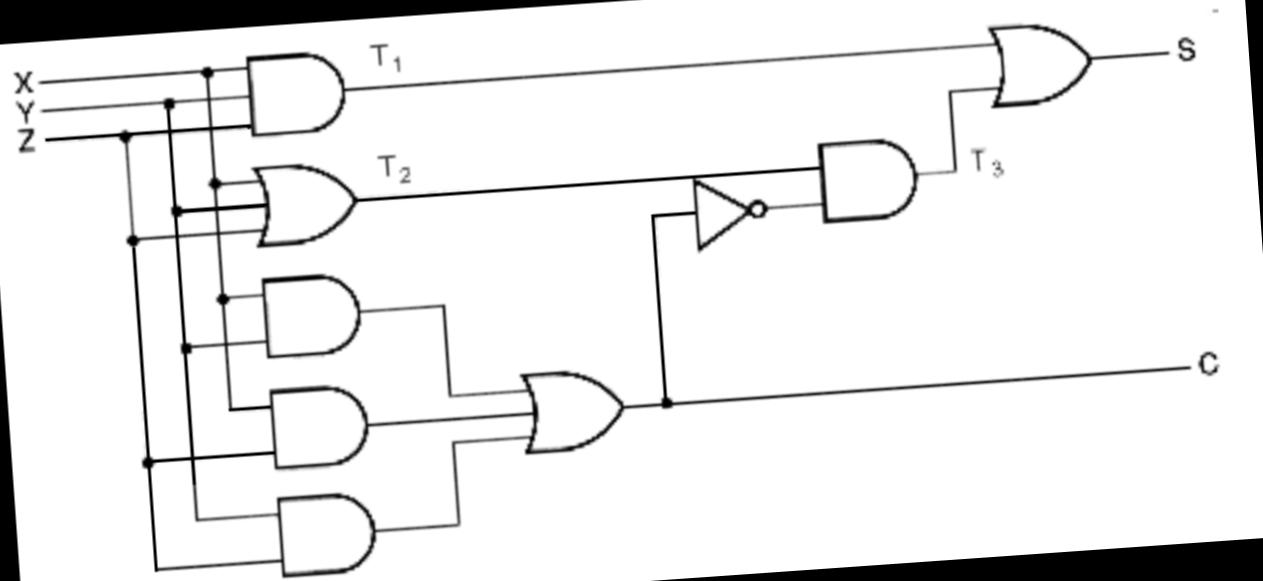and: (248, 260, 372, 371), (804, 126, 929, 234), (254, 372, 381, 478), (262, 479, 388, 581)
not: (683, 170, 779, 258)
or: (975, 5, 1106, 120)
